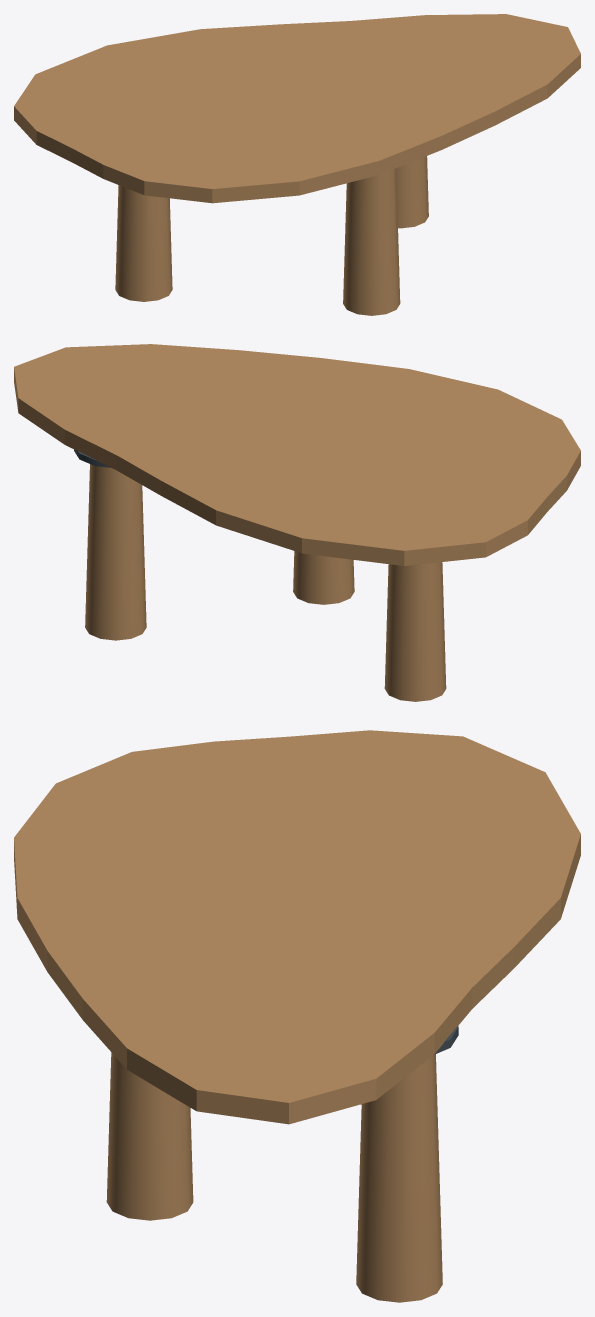
Rendered from coffeeTable-5.glb.
3 views of the same model, one above another, from view 1: azimuth 30°, elevation 25°; view 2: azimuth 150°, elevation 25°; view 3: azimuth 270°, elevation 25° (orthographic). The views are drawn at different scales.
Parts seen in each view (by area): view 1: coffeeTable:5:editor; view 2: coffeeTable:5:editor; view 3: coffeeTable:5:editor.
Boxes of the visible parts, x1,y1,x2,y2 form: coffeeTable:5:editor: (14, 14, 580, 315); coffeeTable:5:editor: (14, 344, 580, 701); coffeeTable:5:editor: (14, 730, 580, 1302).
Size of the model in its own units: 1.12 by 0.39 by 0.7201.
